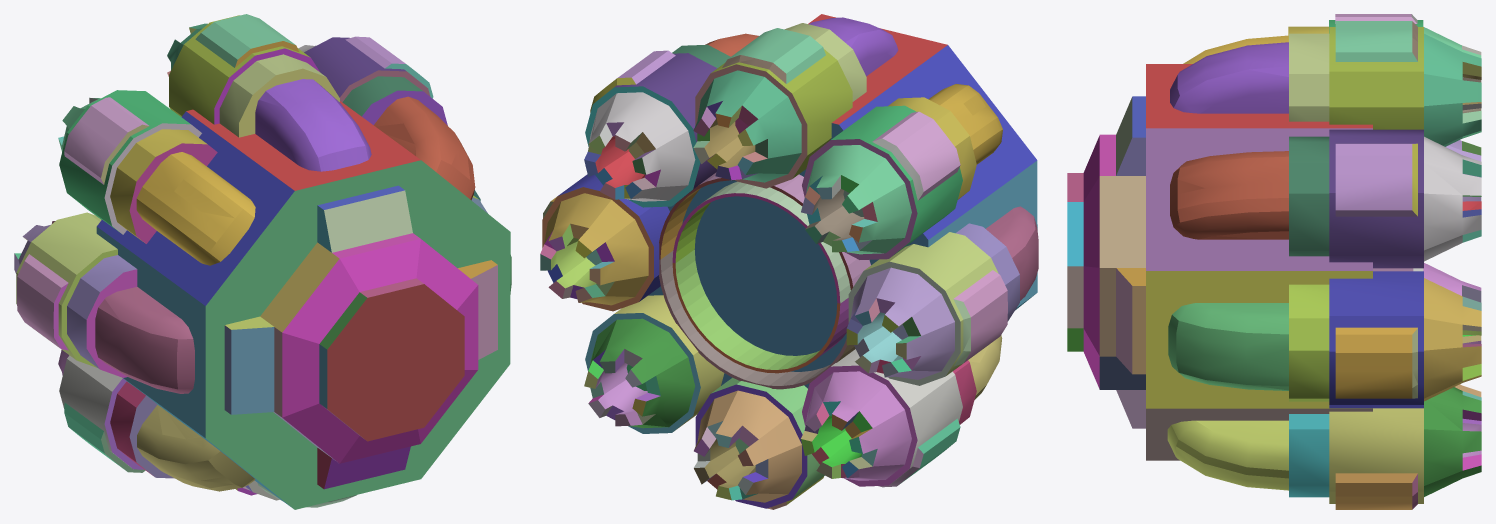
Rendered from module-engine-01.glb.
The picture shows the model from 3 angles, left to right: view 1: azimuth 30°, elevation 25°; view 2: azimuth 150°, elevation 25°; view 3: azimuth 270°, elevation 25°; orthographic projection. The views are drawn at different scales.
Bounding box in the file's own units: 1.81 × 1.81 × 1.46.
